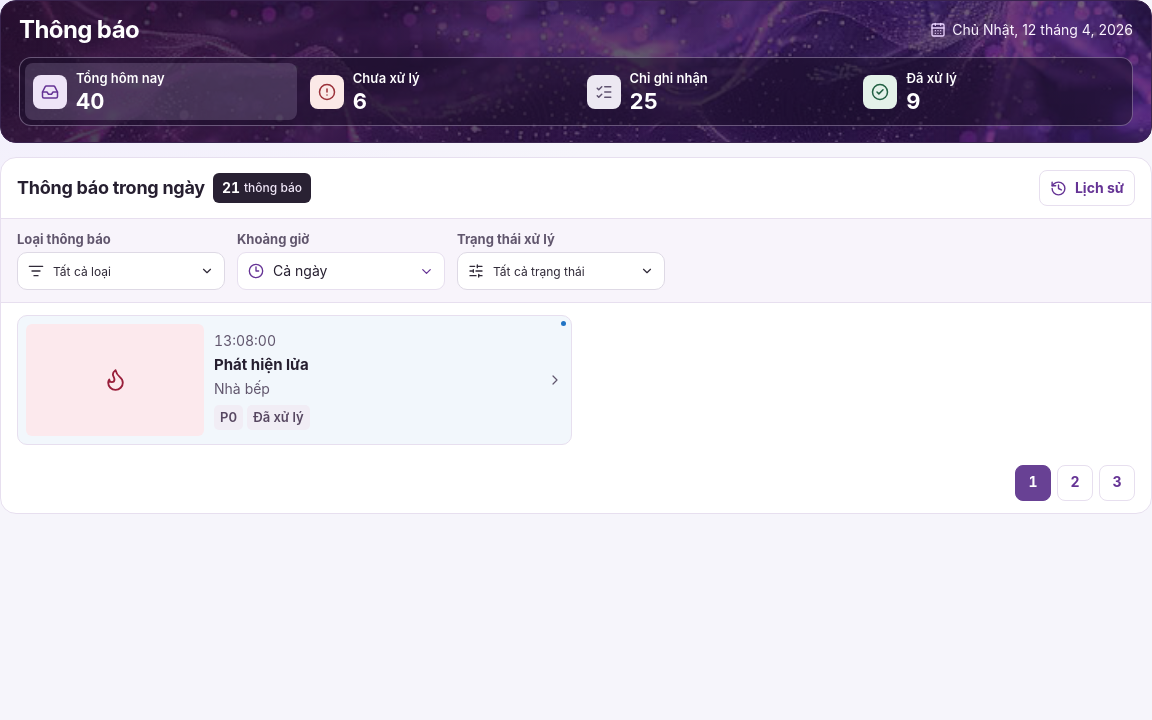
Test: opens history through yesterday, combines period and status and restores today
The image size is (1152, 720).
Click the button "Lịch sử": {"x": 1087, "y": 188} x1=1039 y1=170 x2=1135 y2=206
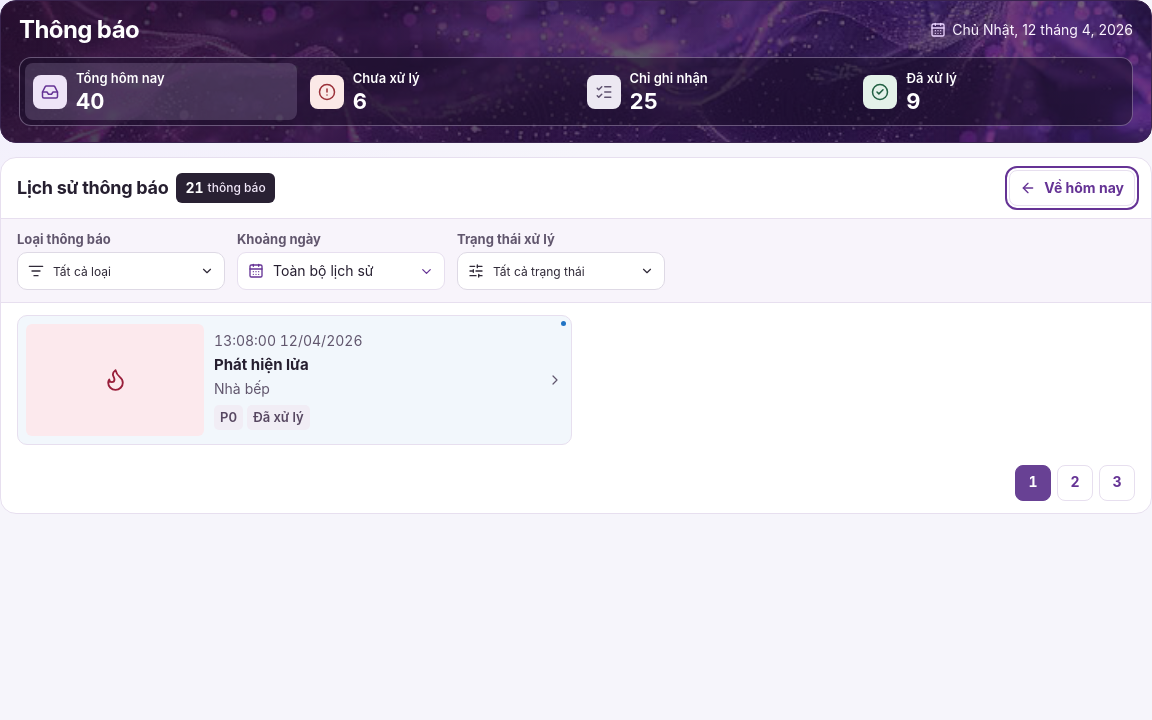
Now the heading "Lịch sử thông báo" is shown, box x1=17 y1=174 x2=168 y2=202
Click the button "Toàn bộ lịch sử": {"x": 341, "y": 271} x1=237 y1=252 x2=445 y2=290
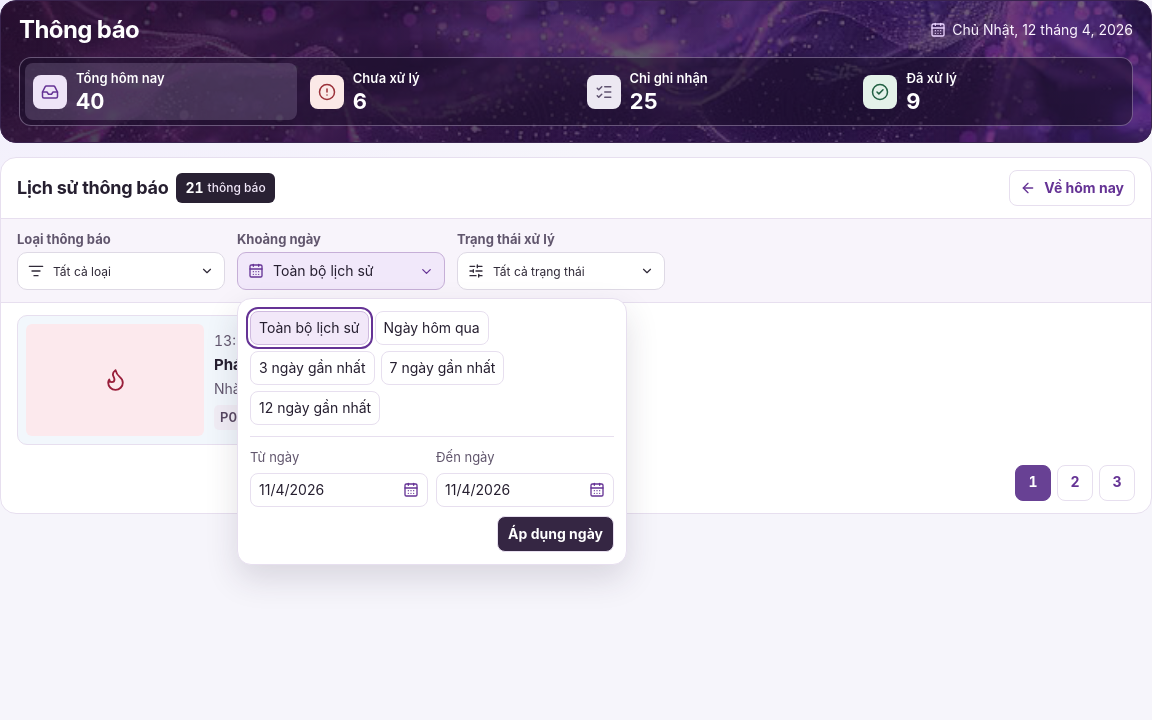
Click the button "3 ngày gần nhất": {"x": 312, "y": 368} x1=250 y1=351 x2=375 y2=385
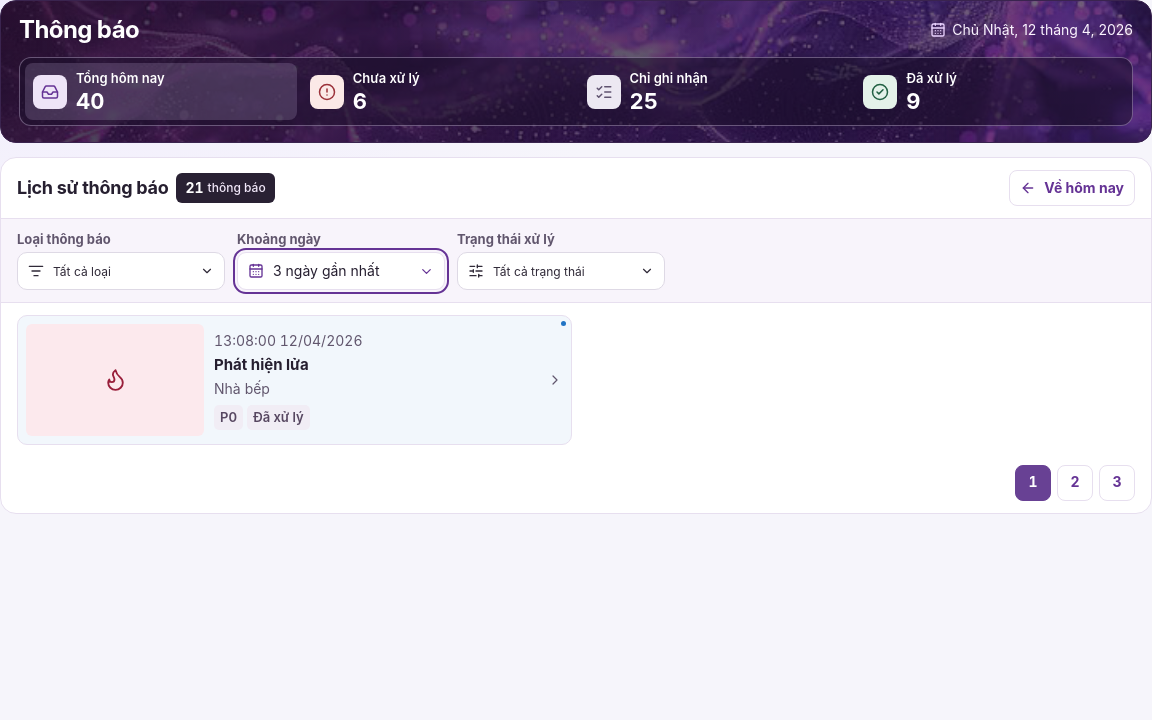
Click the dropdown labelled "Tất cả trạng thái": {"x": 561, "y": 271} x1=457 y1=252 x2=665 y2=290
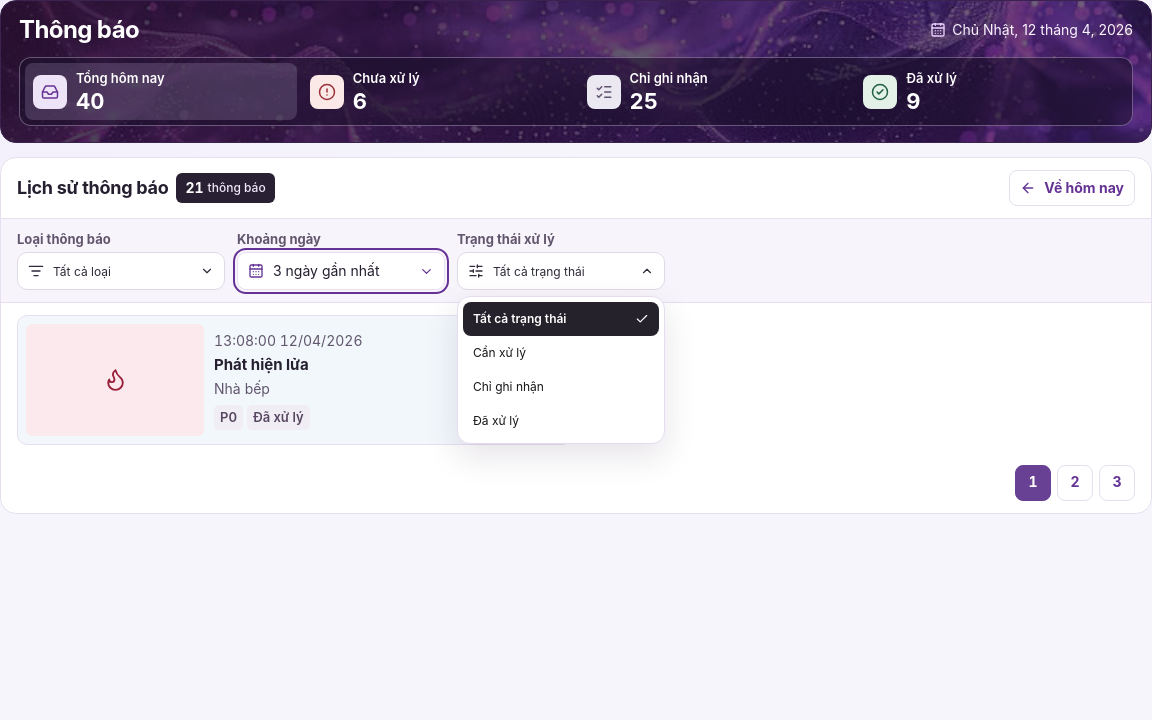
Click the option "Đã xử lý": {"x": 561, "y": 421} x1=463 y1=404 x2=659 y2=438
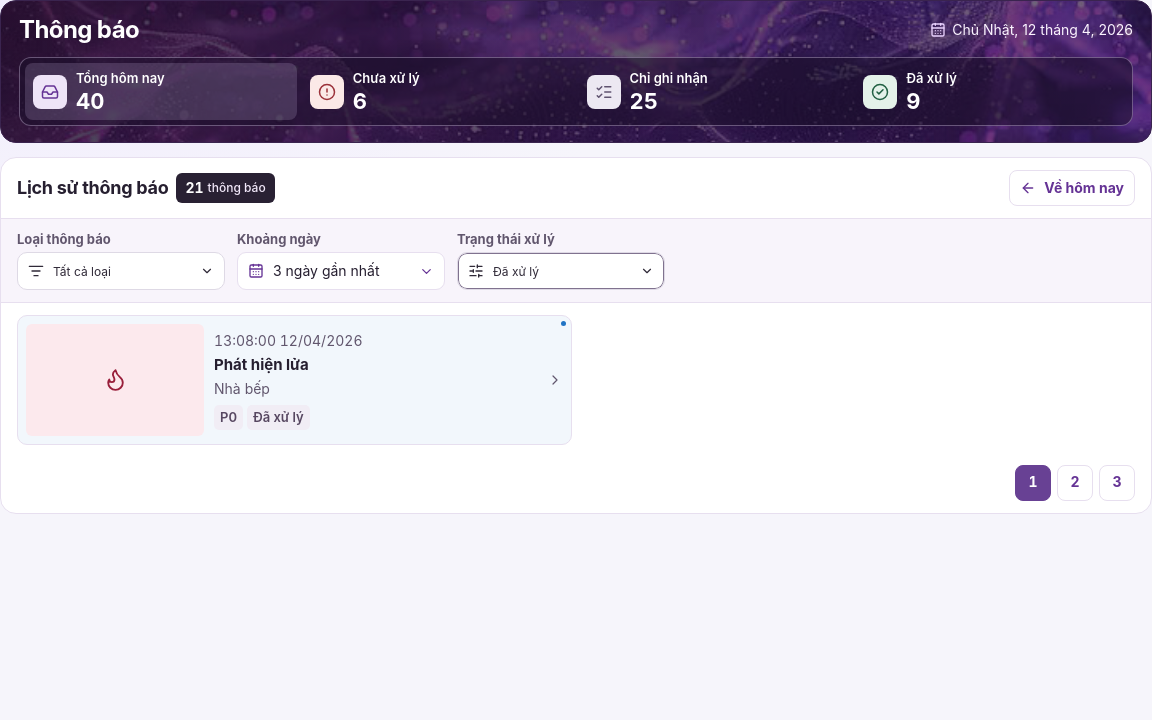
Click the button "Về hôm nay": {"x": 1072, "y": 188} x1=1009 y1=170 x2=1135 y2=206
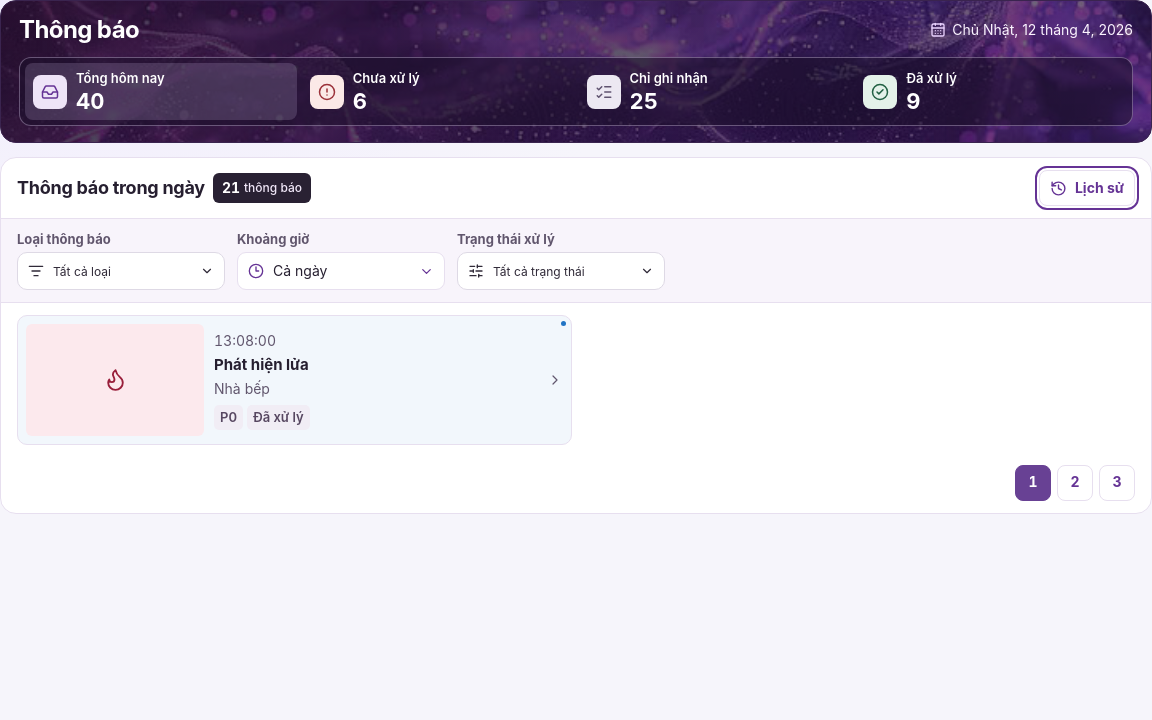
Now the heading "Thông báo trong ngày" is shown, box x1=17 y1=174 x2=205 y2=202
